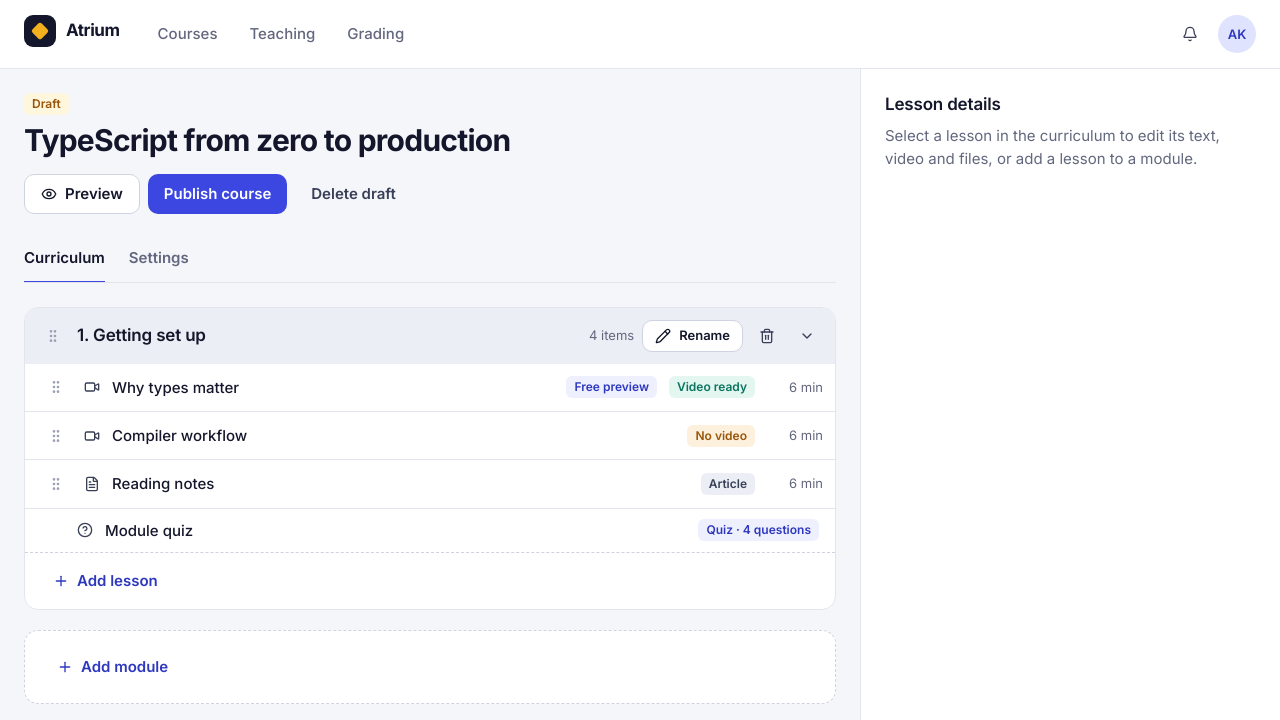
Test case: course builder › renames a module optimistically and rolls back when the API refuses
Click the button "Rename".
click(693, 336)  # box [642,320,743,352]
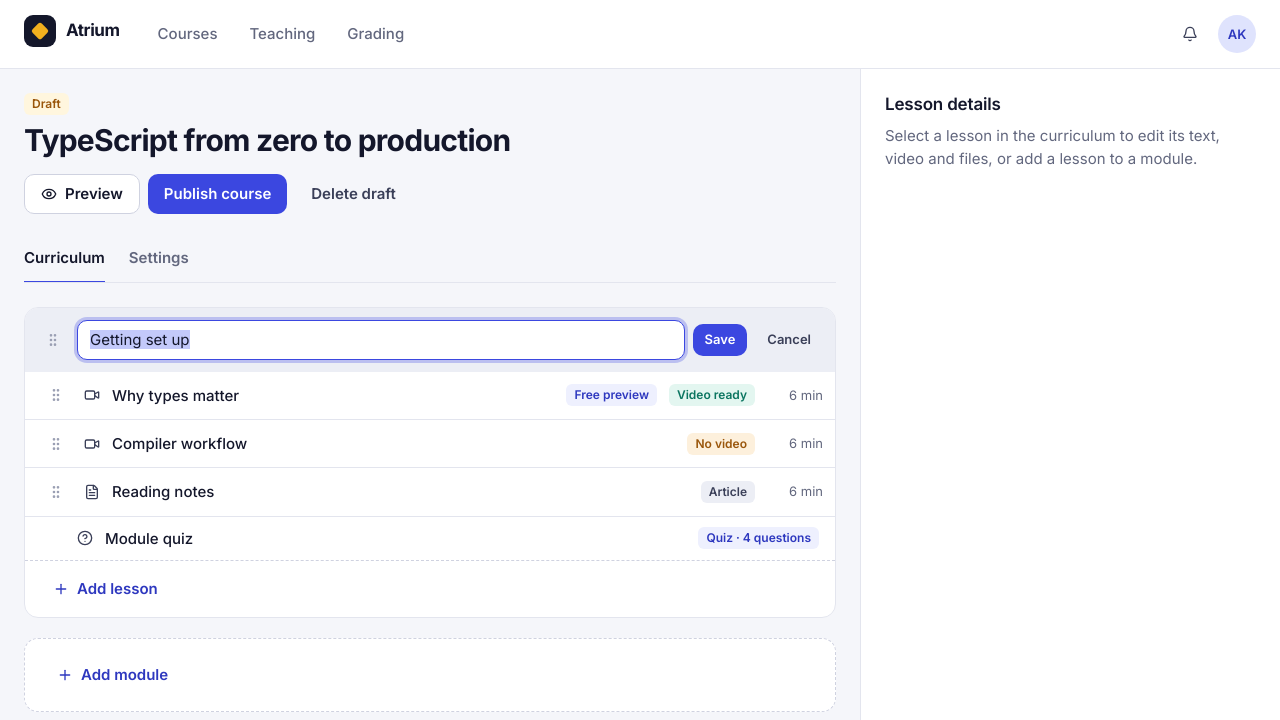
Replace the text in the field named "Module title" with "Renamed module" at coordinates (381, 340), box [77,320,684,360]
Then press Enter
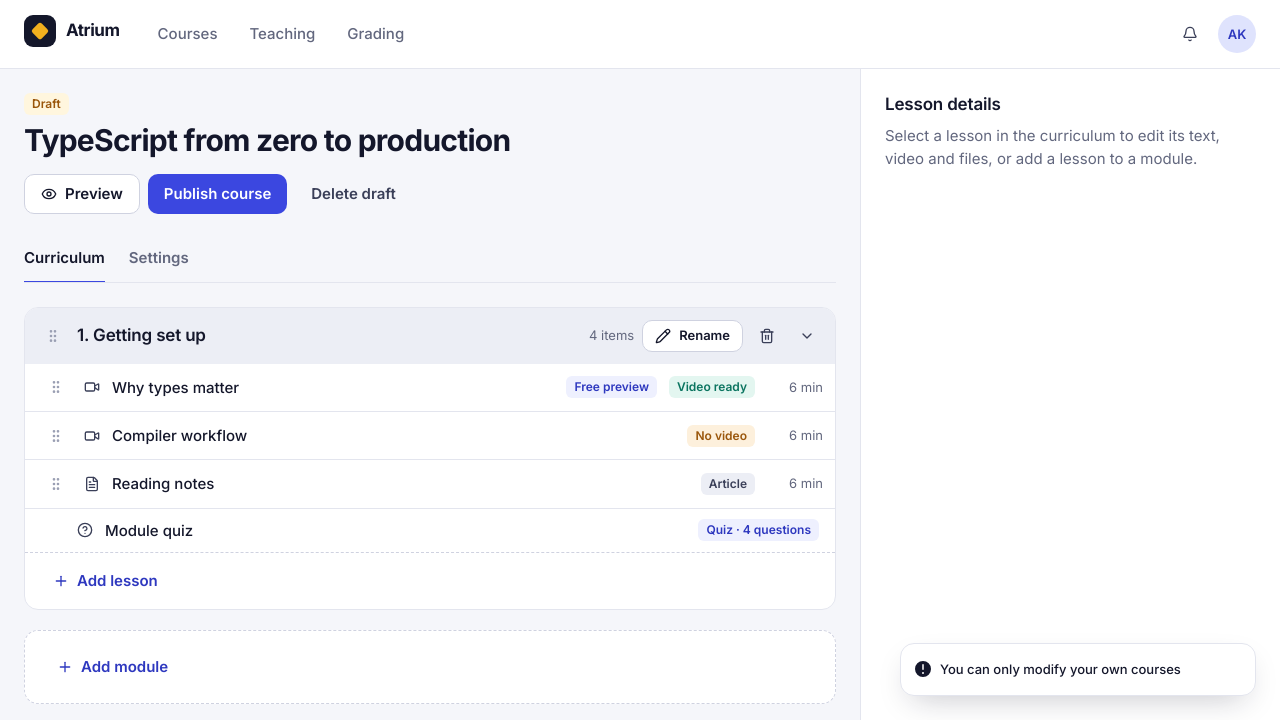
Now the text "You can only modify your own courses" is shown, box [940,660,1181,679]
Now the heading "1. Getting set up" is shown, box [77,325,206,345]
